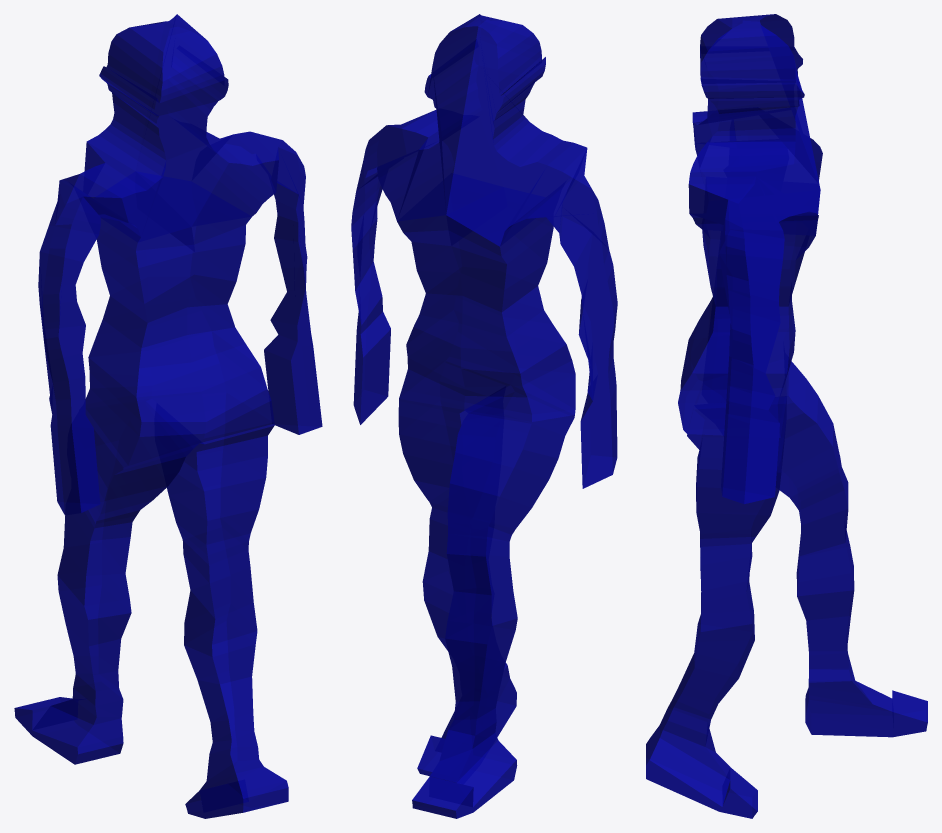
File: woman_000036.obj
The picture shows the model from 3 angles, left to right: view 1: azimuth 30°, elevation 25°; view 2: azimuth 150°, elevation 25°; view 3: azimuth 270°, elevation 25°; orthographic projection. The views are drawn at different scales.
Visible parts, largest first — view 1: Cube_Cube.001; view 2: Cube_Cube.001; view 3: Cube_Cube.001.
Boxes of the visible parts, x1=… form: Cube_Cube.001: x1=14, y1=14, x2=322, y2=818; Cube_Cube.001: x1=351, y1=14, x2=617, y2=818; Cube_Cube.001: x1=646, y1=14, x2=927, y2=818.
Bounding box in the file's own units: 3.63 × 10.23 × 3.41.
